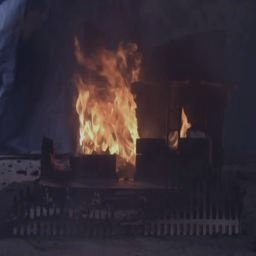fire: (61, 28, 144, 168)
